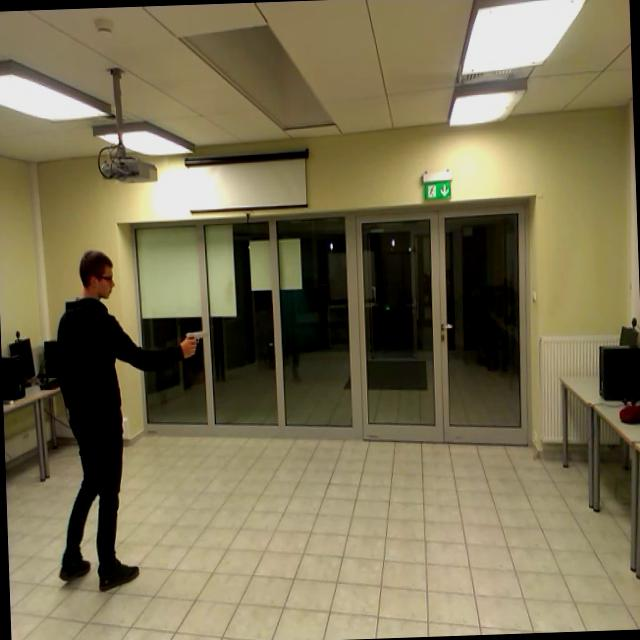handgun: (180, 320, 217, 363)
